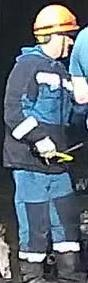helmet: (32, 4, 80, 43)
vest: (2, 45, 87, 186)
